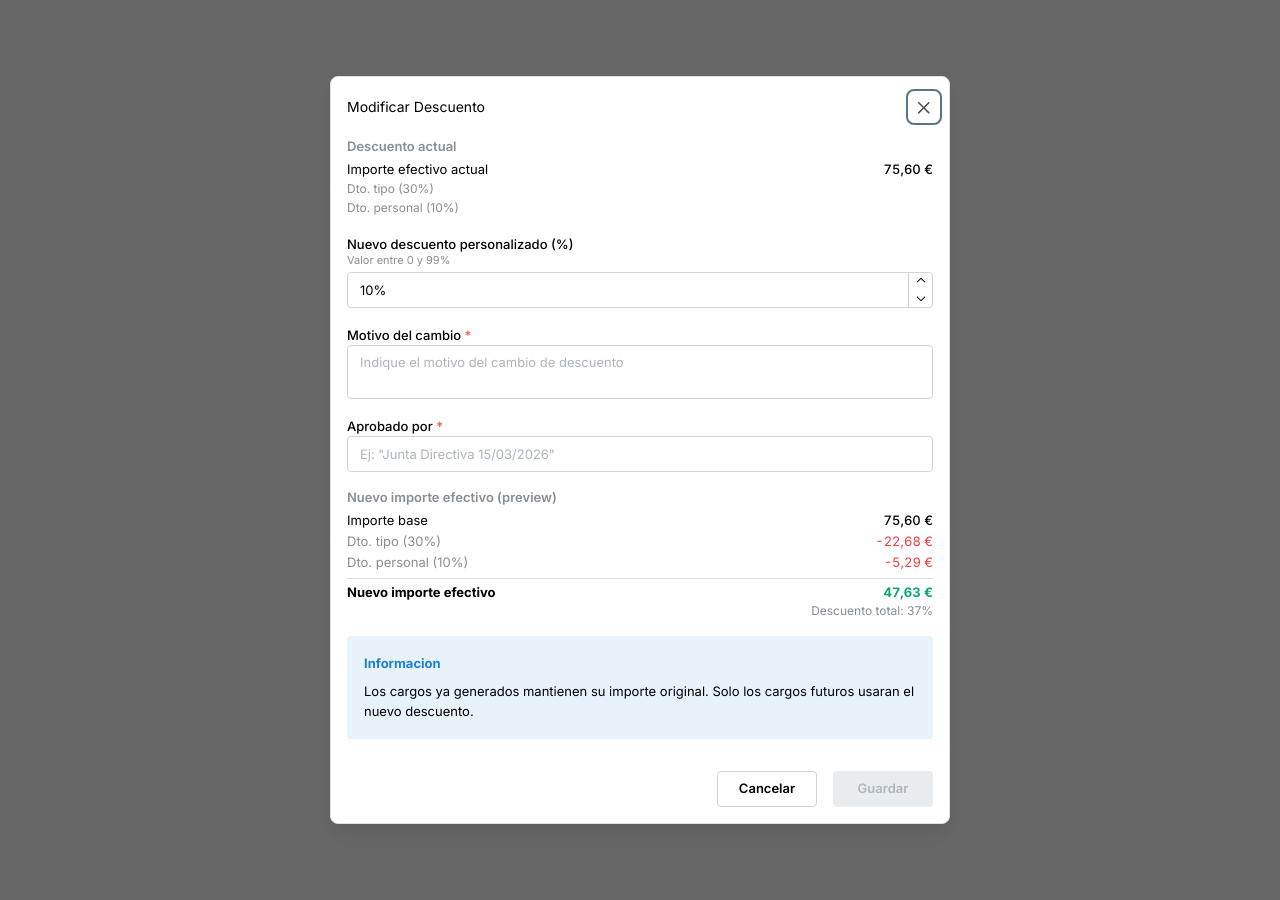
Scenario: UpdateDiscountModal › validacion del formulario › deberia mostrar error de minimo cuando aprobado por tiene menos de 3 caracteres
Type "JD" into the field with placeholder "Ej: \"Junta Directiva 15/03/2026\"".
click(640, 454); type("JD")  # box [347,436,933,472]
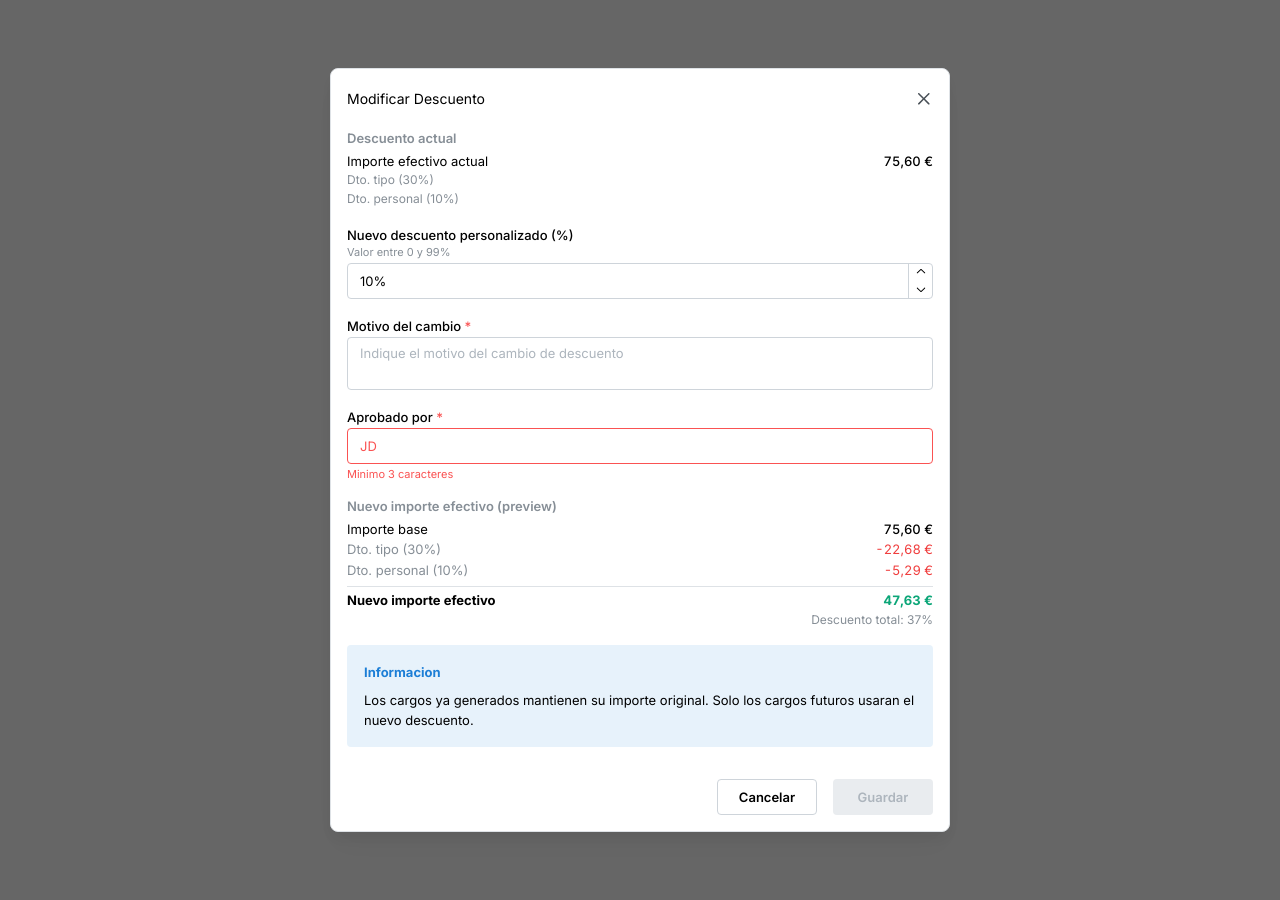
Check: the text "Minimo 3 caracteres" is shown, box [347,467,453,481]
